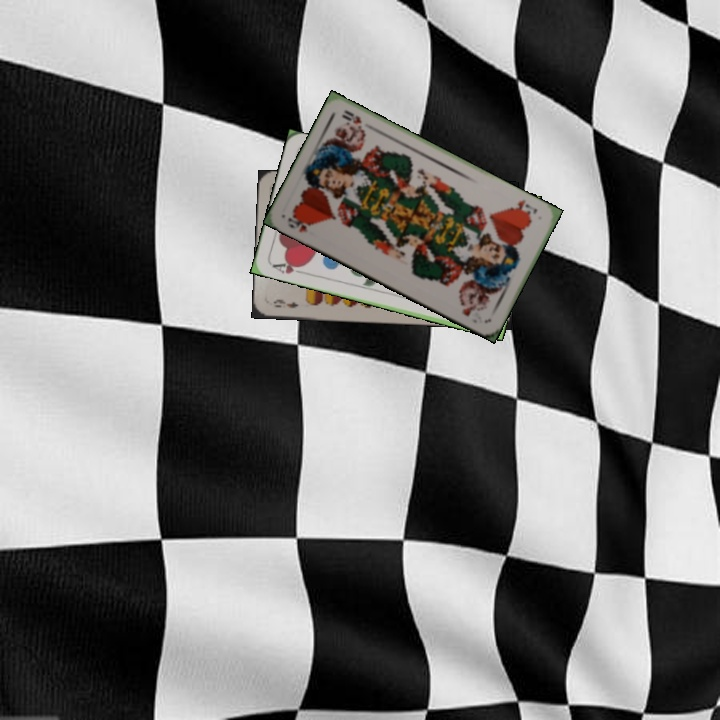E9: (270, 295, 301, 311)
HA: (268, 257, 308, 277)
HO: (507, 195, 540, 220), (283, 211, 316, 235)
